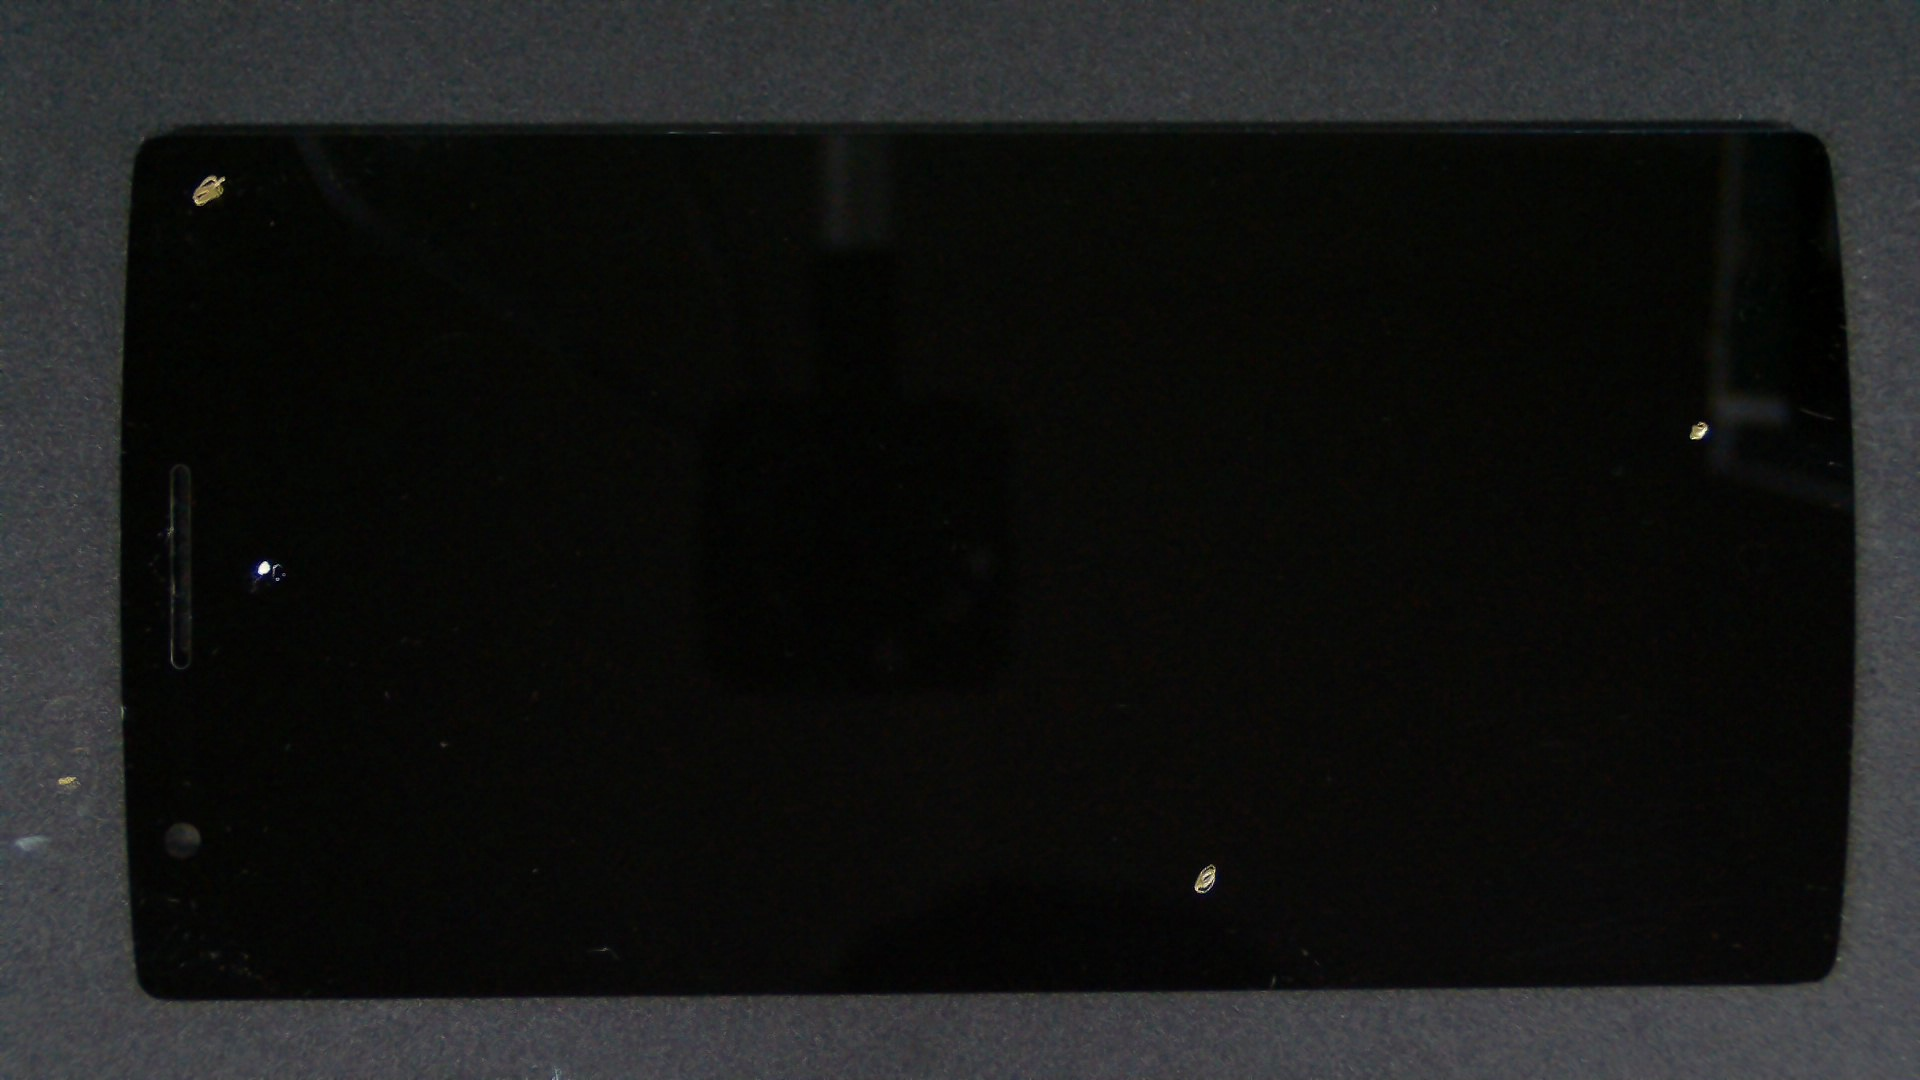oil: (605, 431, 1815, 1080), (849, 210, 1920, 630), (132, 280, 396, 839), (108, 86, 320, 260)
